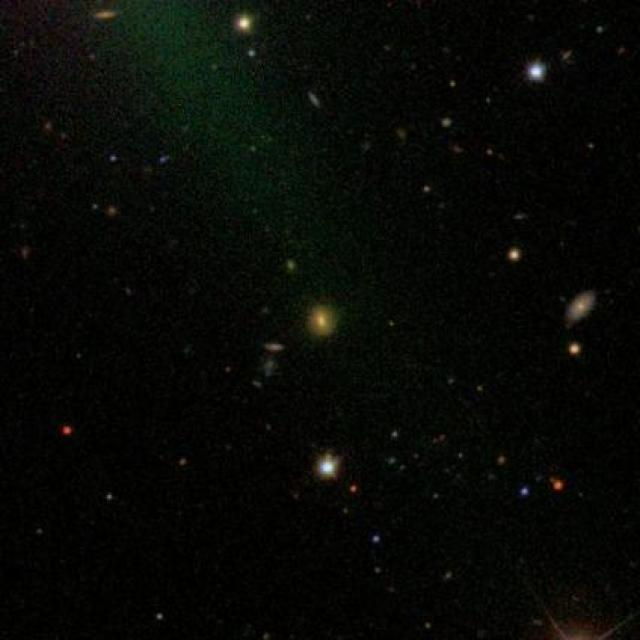galaxy: (304, 303, 345, 343), (565, 291, 598, 328), (313, 452, 344, 483), (232, 10, 257, 40), (526, 56, 549, 85), (282, 254, 303, 277), (564, 339, 586, 360), (261, 360, 282, 382), (304, 90, 324, 113), (424, 485, 444, 508), (93, 8, 121, 24), (505, 244, 525, 265), (263, 340, 287, 357), (15, 241, 34, 262), (512, 206, 531, 226), (157, 149, 175, 170), (259, 414, 275, 437), (393, 123, 411, 143), (444, 372, 460, 392), (394, 458, 411, 476), (482, 468, 499, 486), (251, 374, 266, 393), (105, 200, 119, 220), (447, 74, 461, 94), (420, 618, 436, 635), (581, 138, 599, 153), (450, 140, 466, 156), (71, 346, 86, 363), (83, 48, 101, 62), (483, 144, 498, 160), (409, 448, 425, 463), (247, 138, 259, 157), (104, 489, 118, 505), (429, 434, 443, 450), (440, 119, 455, 133), (371, 533, 384, 549), (222, 361, 235, 377), (386, 430, 403, 442), (495, 454, 509, 468), (177, 456, 191, 470), (338, 504, 352, 518), (438, 432, 452, 446), (260, 303, 274, 317), (244, 47, 259, 60), (385, 317, 398, 332), (475, 380, 487, 396), (440, 461, 452, 477), (553, 478, 566, 492), (61, 425, 75, 438), (444, 571, 457, 585), (562, 48, 576, 61), (258, 630, 276, 640), (34, 523, 45, 539), (422, 183, 434, 197), (88, 200, 100, 214), (382, 454, 396, 466), (518, 486, 531, 498), (154, 611, 167, 623), (123, 286, 136, 298), (372, 565, 383, 579), (485, 94, 495, 108), (595, 25, 606, 36), (456, 451, 467, 462), (109, 154, 120, 164), (616, 43, 625, 55), (210, 61, 219, 72), (58, 131, 66, 143), (45, 123, 54, 133), (351, 487, 357, 494)
star: (529, 603, 640, 640)
